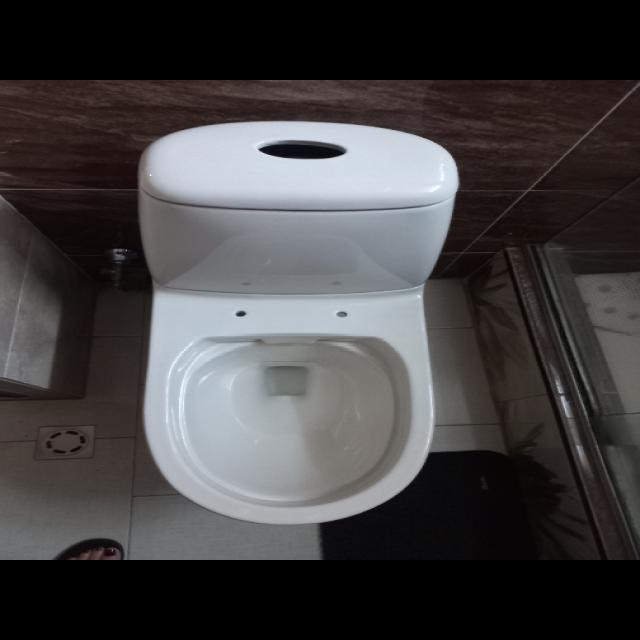toilet: (127, 116, 473, 532)
